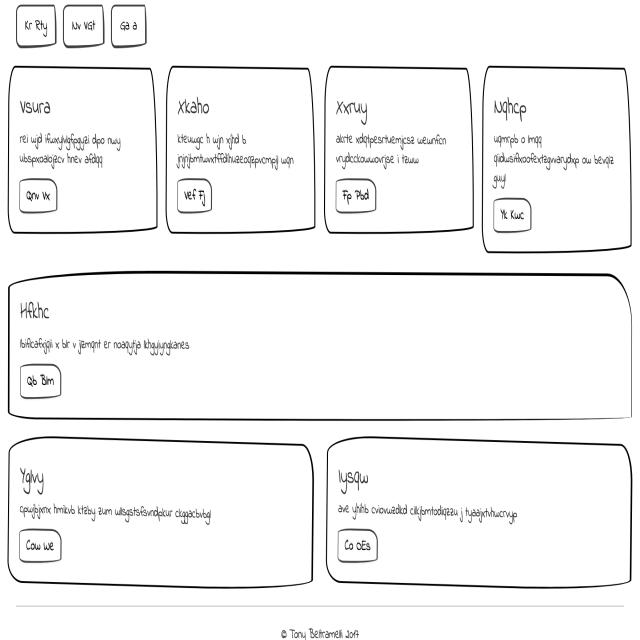Button: (332, 173, 378, 214), (17, 526, 63, 565), (18, 362, 61, 400), (18, 176, 58, 216), (492, 197, 532, 234), (337, 527, 376, 564), (177, 180, 212, 213)
Card: (6, 277, 634, 417), (8, 433, 313, 589), (323, 436, 633, 589), (484, 63, 634, 253), (324, 62, 475, 233), (164, 66, 317, 234), (10, 64, 156, 235)
Footer: (0, 589, 640, 640)
Heading 6: (332, 96, 376, 130), (15, 458, 48, 500), (335, 464, 375, 494), (175, 94, 212, 124), (493, 99, 530, 124), (18, 297, 52, 321), (20, 96, 56, 116)
Navigation Bar: (14, 1, 148, 48)
Paragraph: (494, 131, 616, 194), (16, 498, 216, 526), (172, 130, 295, 175), (333, 130, 452, 168), (336, 499, 514, 524), (17, 129, 123, 169), (17, 334, 192, 355)
